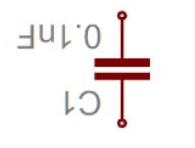Capacitor: (83, 43, 157, 89)
